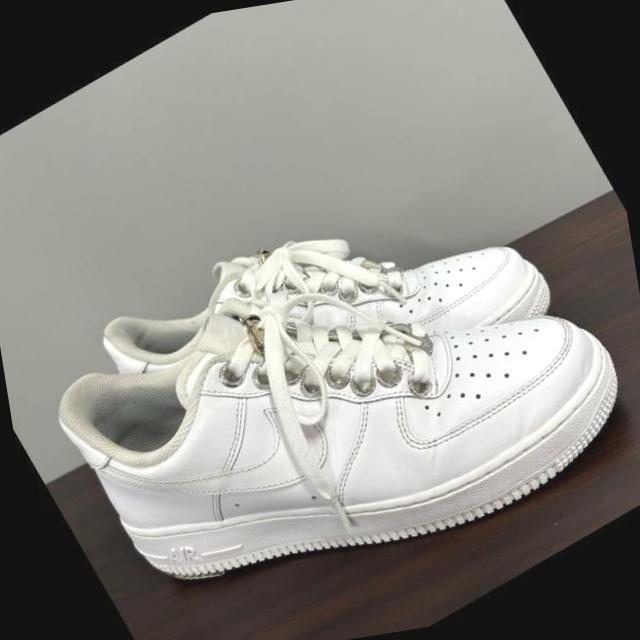nike_original_airforce: (14, 121, 640, 640), (74, 109, 590, 522)
